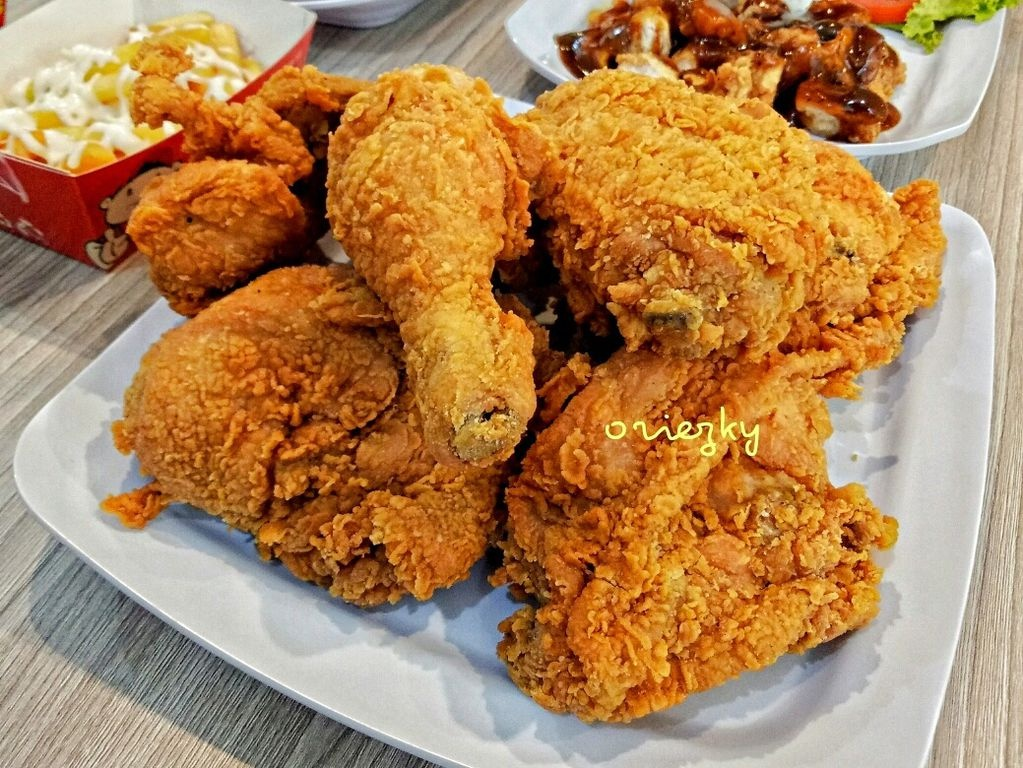ayam_goreng: (309, 54, 558, 461)
